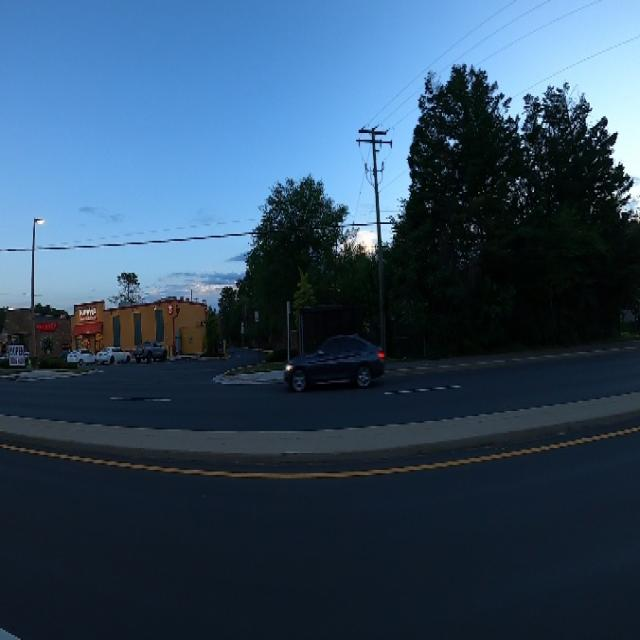cars: (281, 333, 386, 402), (133, 336, 171, 368), (97, 341, 131, 370), (68, 344, 94, 369)
